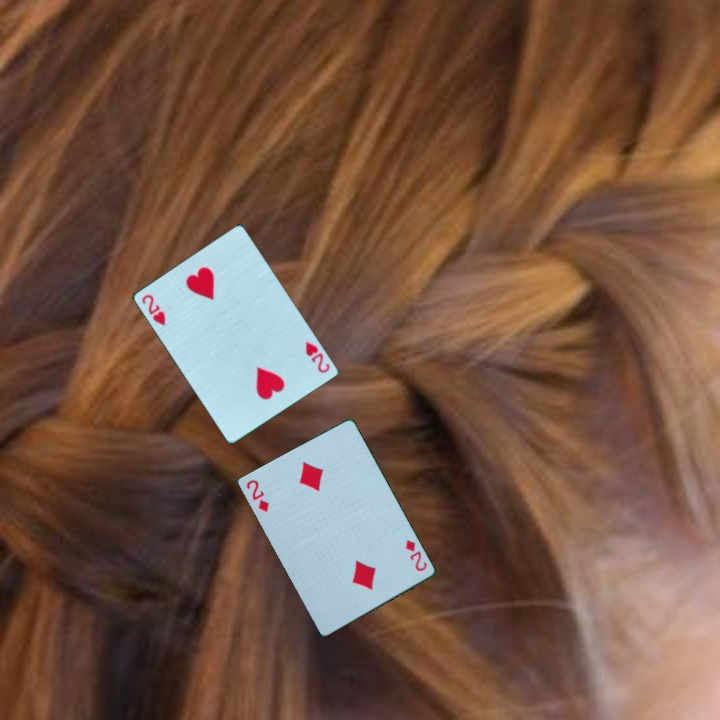2d: (243, 476, 272, 515), (402, 536, 430, 574)
2h: (301, 338, 332, 376), (138, 291, 168, 329)
